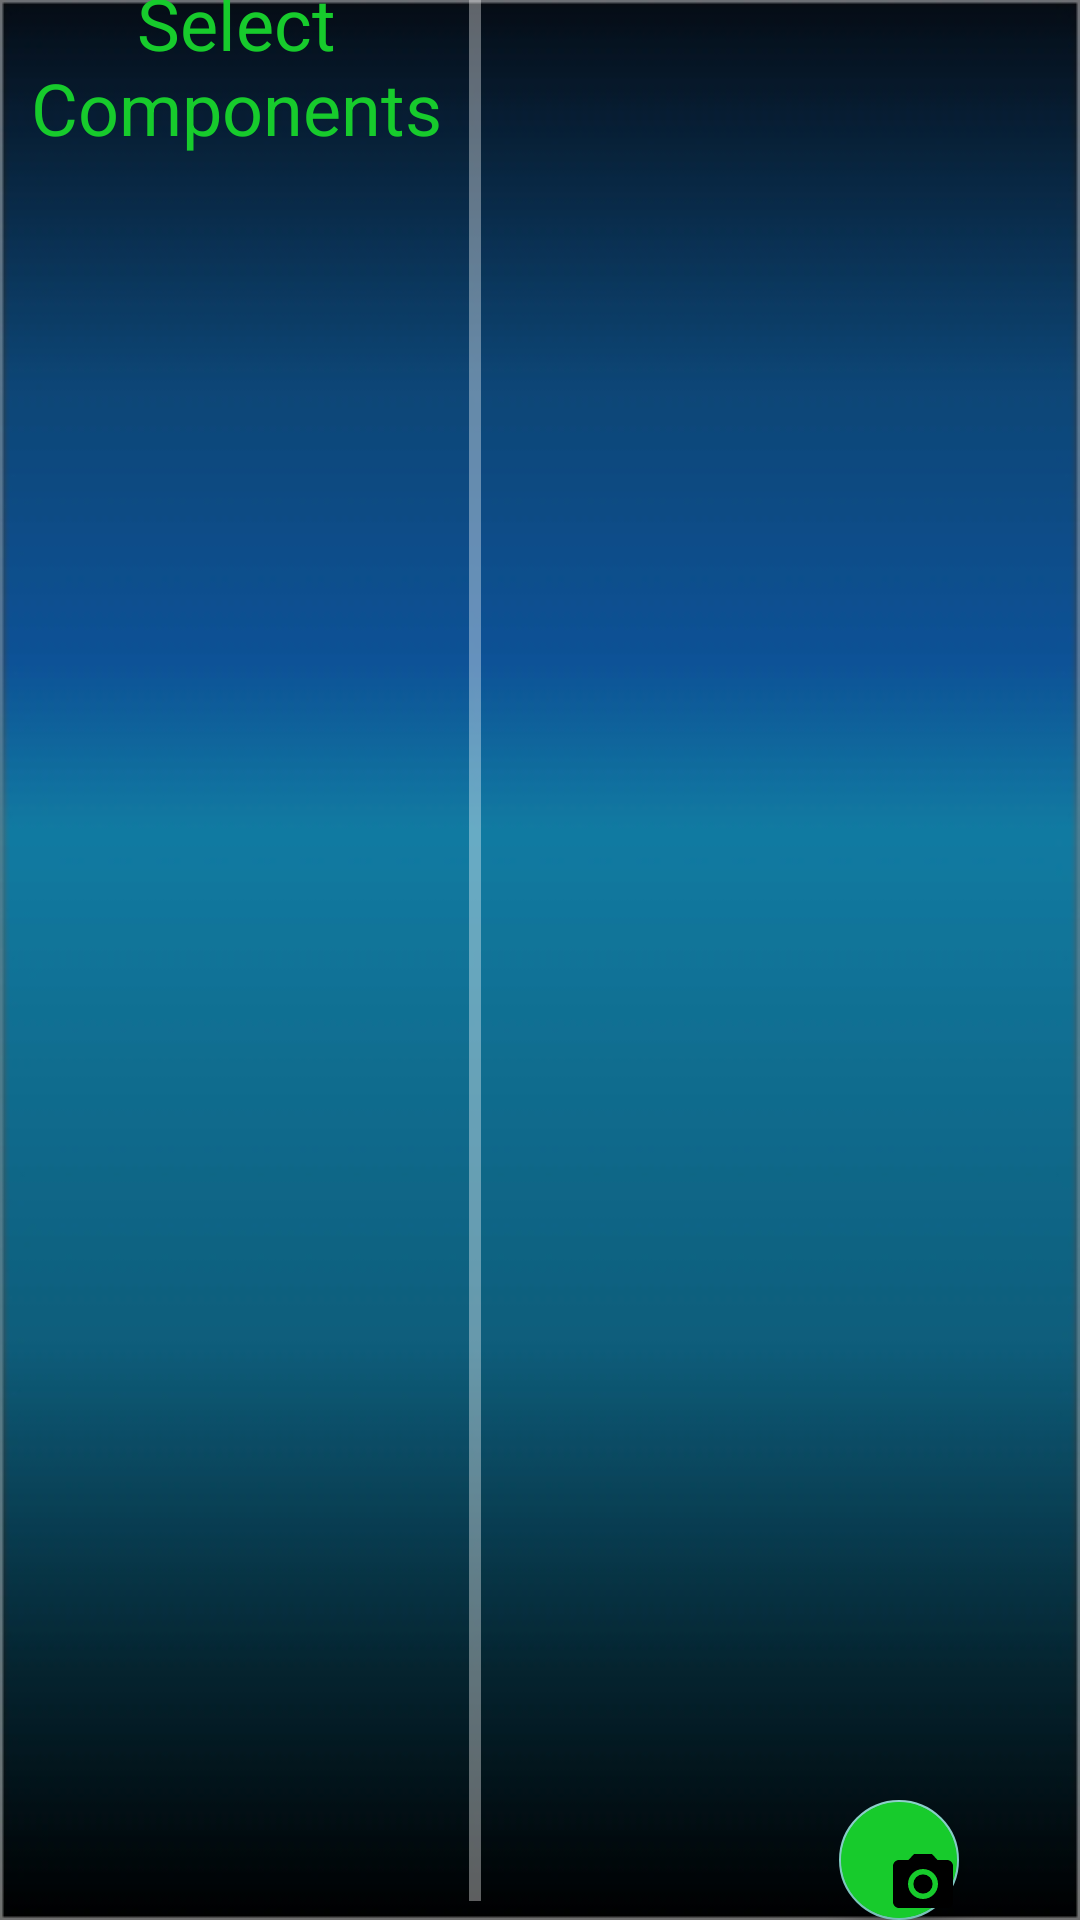

Where to tap for icons on this 1080px×1920px app screen, as [x,y]:
camera: [899,1860]
